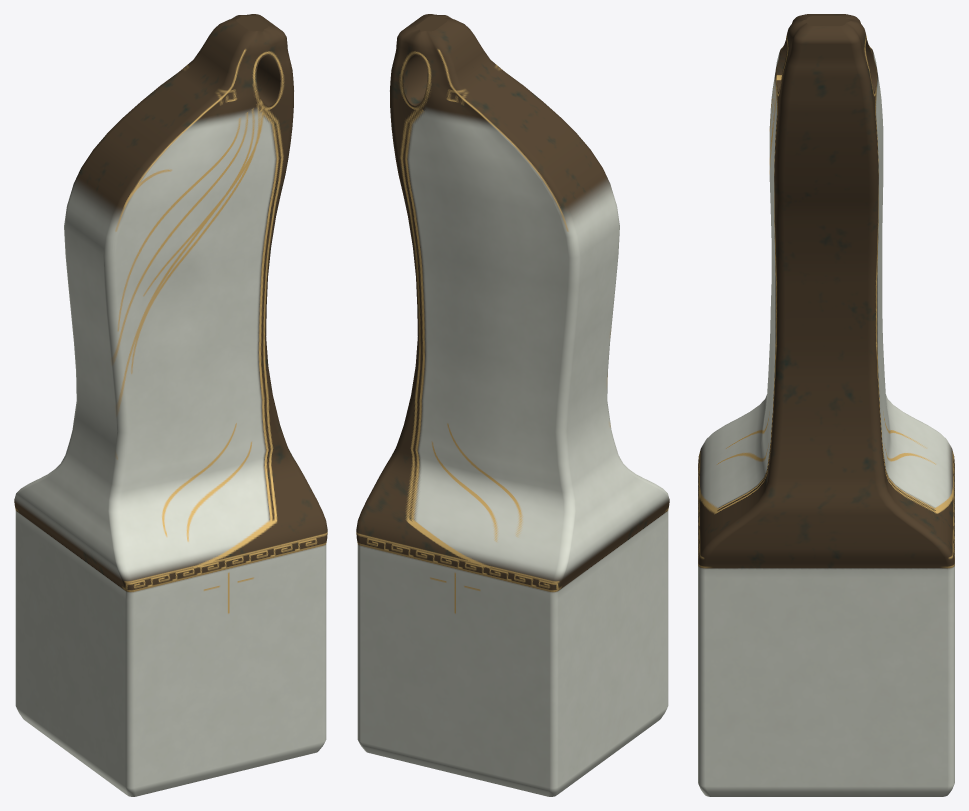
The model's file is QingGui_LOD0.fbx.
3 renders of one model, left to right at view 1: azimuth 30°, elevation 25°; view 2: azimuth 150°, elevation 25°; view 3: azimuth 270°, elevation 25°, orthographic. The views are drawn at different scales.
Visible parts, largest first — view 1: QingGui_LOD0; view 2: QingGui_LOD0; view 3: QingGui_LOD0.
Boxes of the visible parts, x1,y1,x2,y2 form: QingGui_LOD0: (14,14,327,796); QingGui_LOD0: (356,14,669,796); QingGui_LOD0: (698,14,954,796).
Size of the model in its own units: 11.1 by 35 by 10.6.
1 material, 1 textured.
